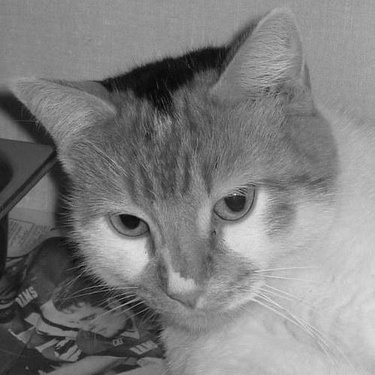cat: (5, 8, 370, 372)
